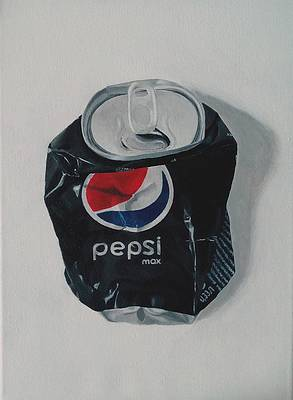can: (43, 77, 239, 328)
